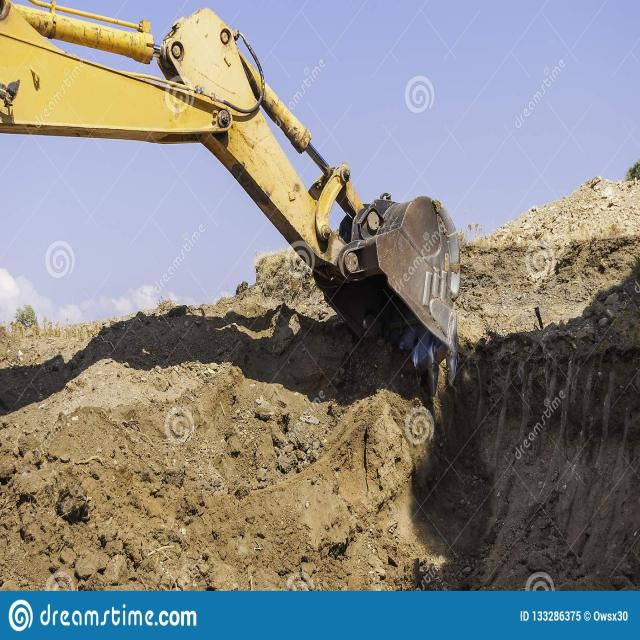excavator: (5, 11, 486, 403)
